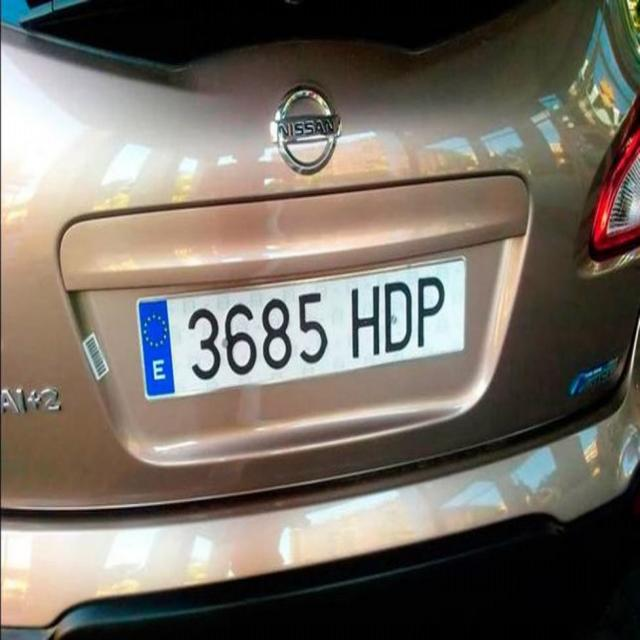License-Plate: (136, 252, 469, 409)
